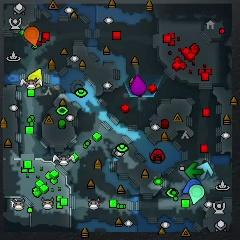p1: (183, 179, 201, 194)
p2: (190, 184, 204, 205)
p3: (130, 75, 146, 96)
p4: (27, 67, 43, 88)
p5: (25, 27, 40, 46)
x3: (198, 161, 212, 179)
x4: (185, 162, 202, 179)
